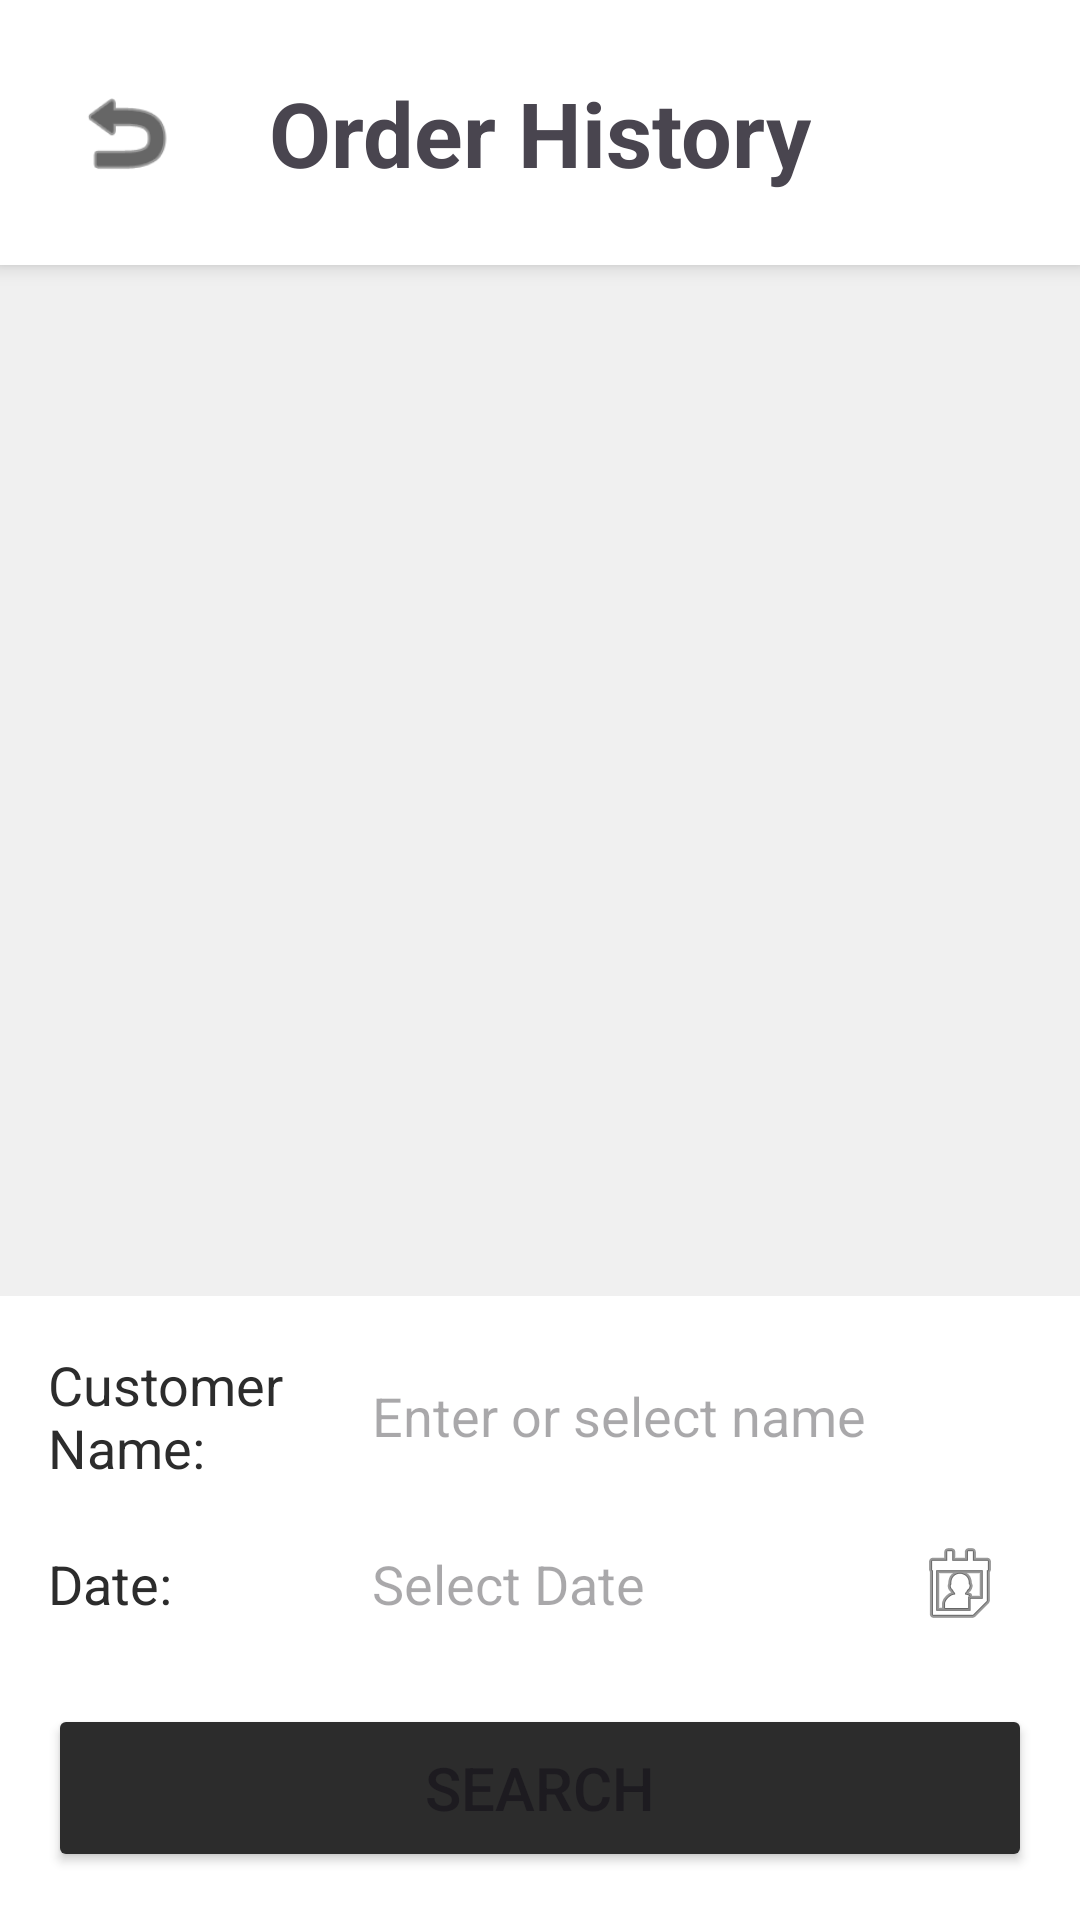

Icon bounding boxes for this 1080*1920 phone screenshot, format (x1, y1, x2, y2):
revert: (88, 99, 167, 169)
